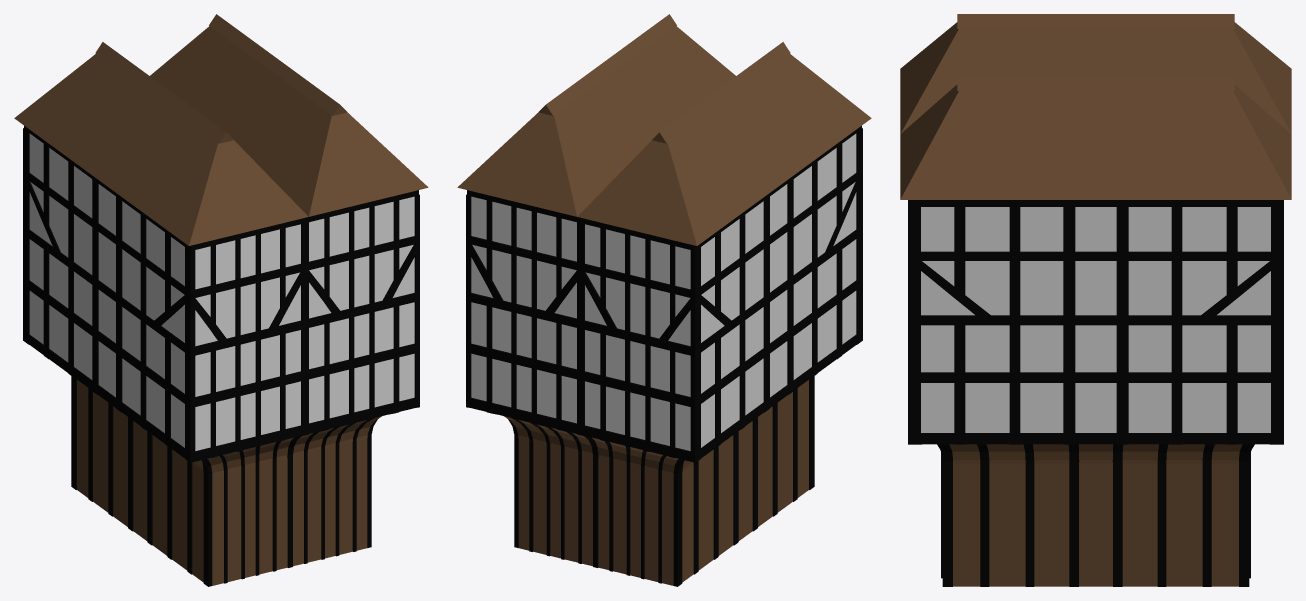
The model's file is 02_res_big_var1.fbx.
3 renders of one model, left to right at view 1: azimuth 30°, elevation 25°; view 2: azimuth 150°, elevation 25°; view 3: azimuth 270°, elevation 25°, orthographic. The views are drawn at different scales.
Visible parts, largest first — view 1: Cube.004; view 2: Cube.004; view 3: Cube.004.
Boxes of the visible parts, left/top/right/bottom form: Cube.004: left=14, top=14, right=428, bottom=586; Cube.004: left=457, top=14, right=871, bottom=586; Cube.004: left=900, top=14, right=1291, bottom=586.
Size of the model in its own units: 65.32 by 115 by 82.38.
